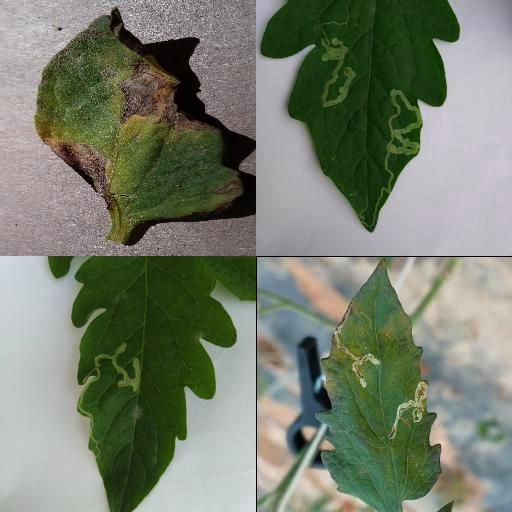Early Blight: (34, 7, 244, 221)
Leaf Miner: (260, 0, 460, 236), (70, 256, 236, 512), (312, 257, 441, 512)
